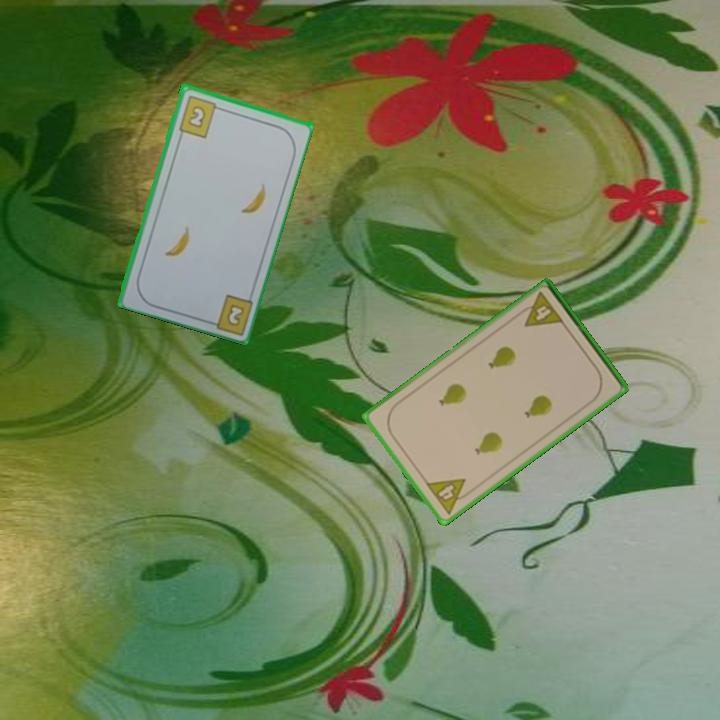2b: (175, 91, 225, 140), (223, 300, 247, 329)
4p: (422, 475, 476, 517), (514, 288, 567, 330)
